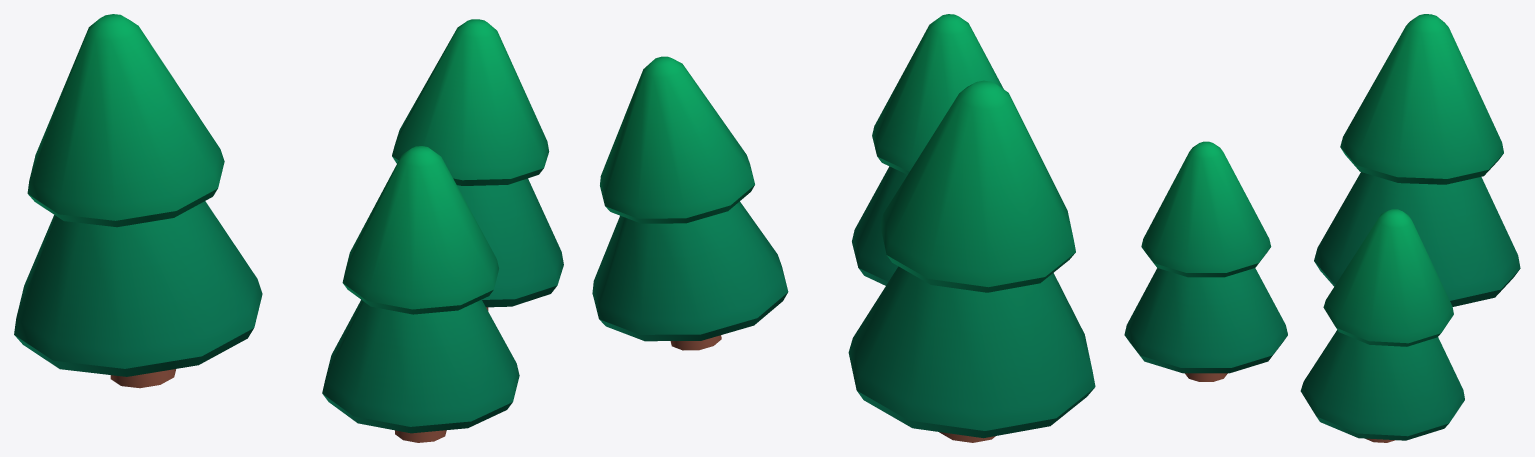
The model's file is trees_B_small.glb.
The picture shows the model from 3 angles, left to right: view 1: azimuth 30°, elevation 25°; view 2: azimuth 150°, elevation 25°; view 3: azimuth 270°, elevation 25°; orthographic projection. The views are drawn at different scales.
Visible parts, largest first — view 1: trees_B_small; view 2: trees_B_small; view 3: trees_B_small.
Part boxes in pixels (<box>): trees_B_small: <box>14,14,563,442</box>; trees_B_small: <box>592,14,1095,442</box>; trees_B_small: <box>1124,14,1520,442</box>.
Size of the model in its own units: 1.33 by 0.9219 by 1.14.
Materials: 1 (1 with a texture image).
